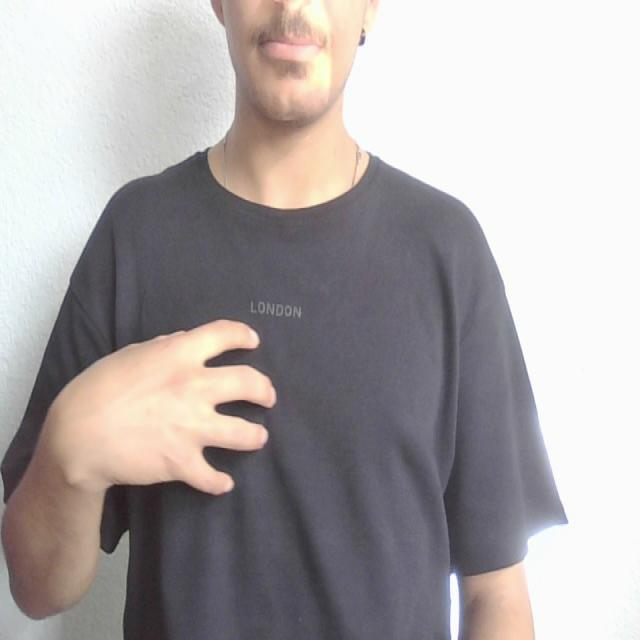Anne: (44, 299, 457, 507)
